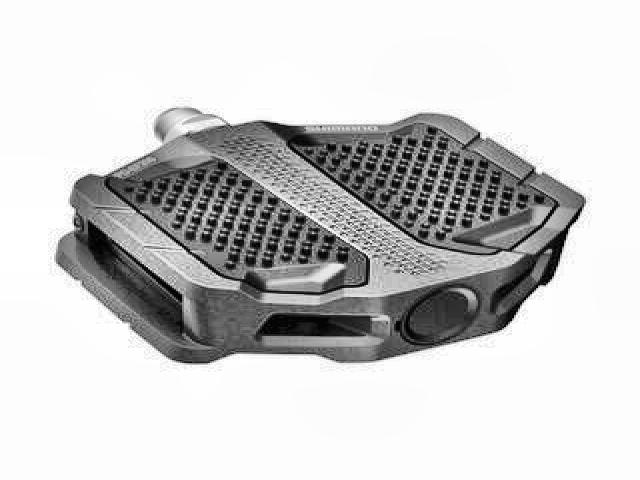pedal: (53, 102, 591, 374)
